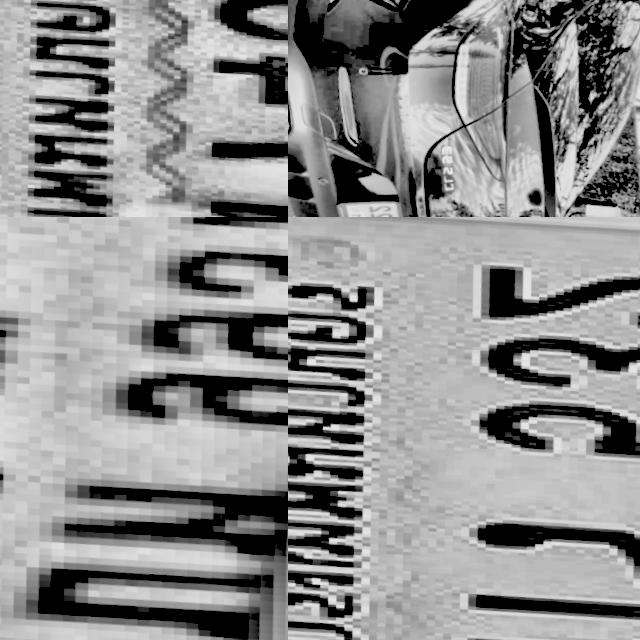license-plate: (288, 217, 640, 640), (0, 217, 288, 640), (0, 0, 288, 217), (318, 194, 405, 217)
